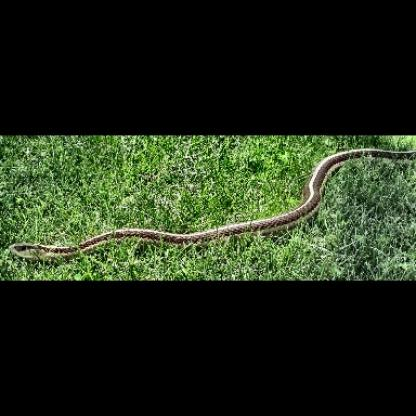Snake: (7, 145, 416, 263)
